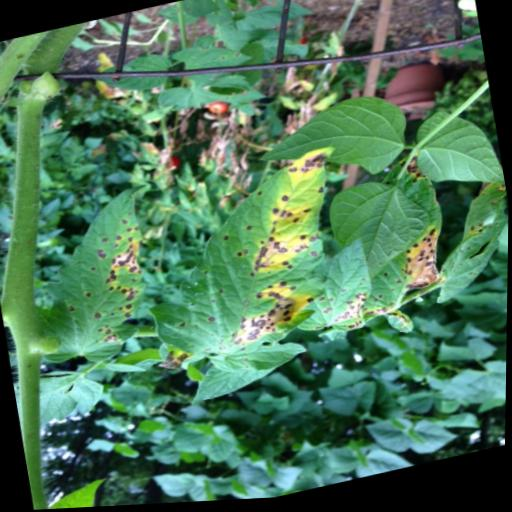Healthy: (249, 89, 414, 204), (408, 103, 506, 208)
Septoria: (160, 148, 364, 362), (37, 190, 173, 371), (283, 233, 379, 341)
